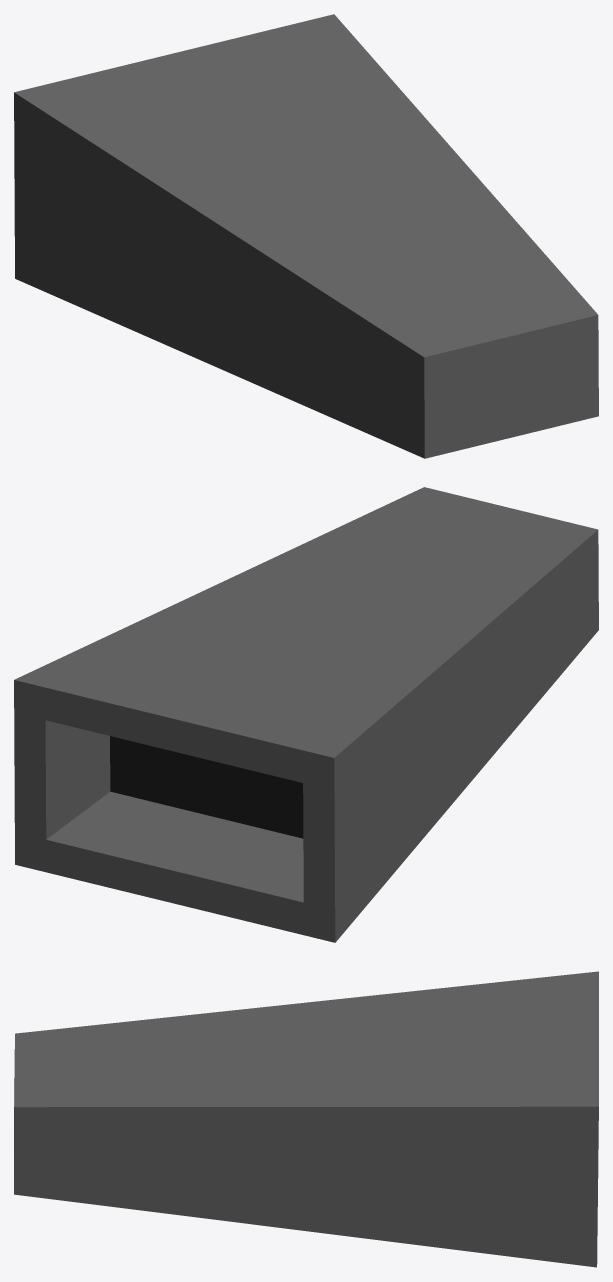
File: exhaust1.glb
3 renders of one model, top to bottom at view 1: azimuth 30°, elevation 25°; view 2: azimuth 150°, elevation 25°; view 3: azimuth 270°, elevation 25°, orthographic. The views are drawn at different scales.
Visible parts, largest first — view 1: exhaust1; view 2: exhaust1; view 3: exhaust1.
Part boxes in pixels (x1,y1,x2,y2): exhaust1: [14, 14, 598, 458]; exhaust1: [14, 487, 598, 942]; exhaust1: [14, 971, 598, 1267].
Size of the model in its own units: 0.1947 by 0.1079 by 0.3557.
1 material, 1 textured.
